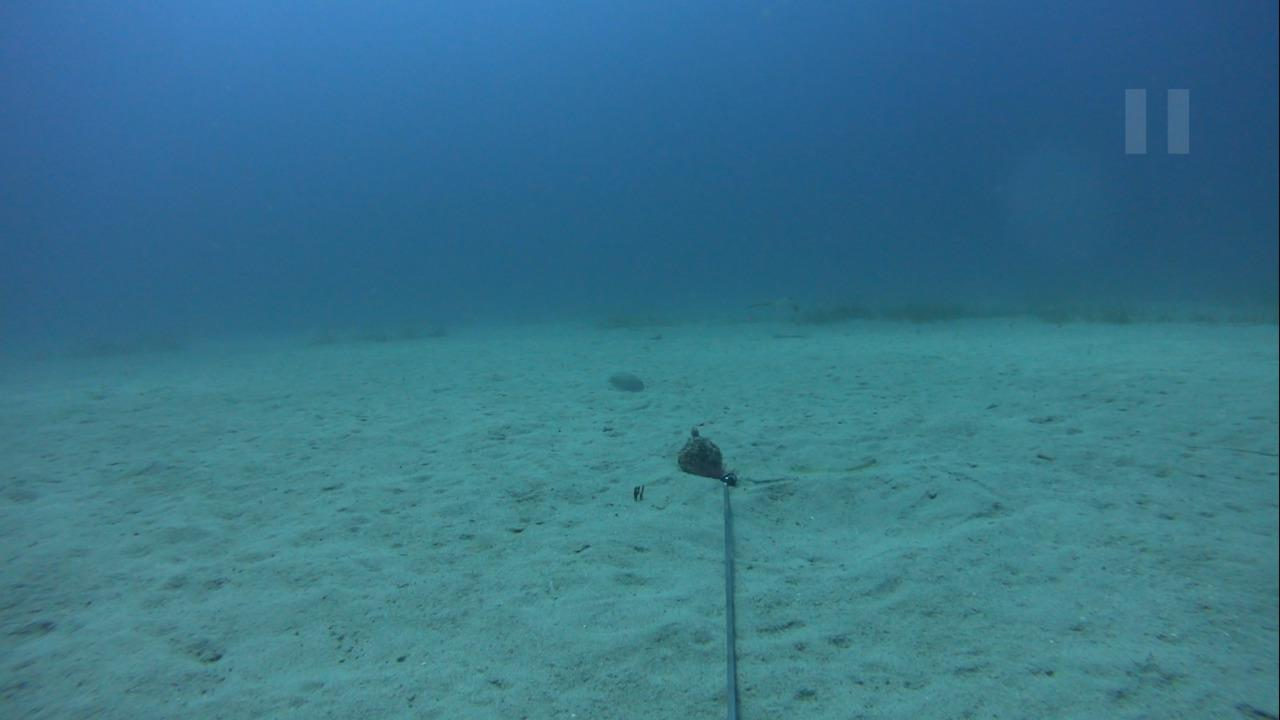raor: (596, 365, 648, 397)
